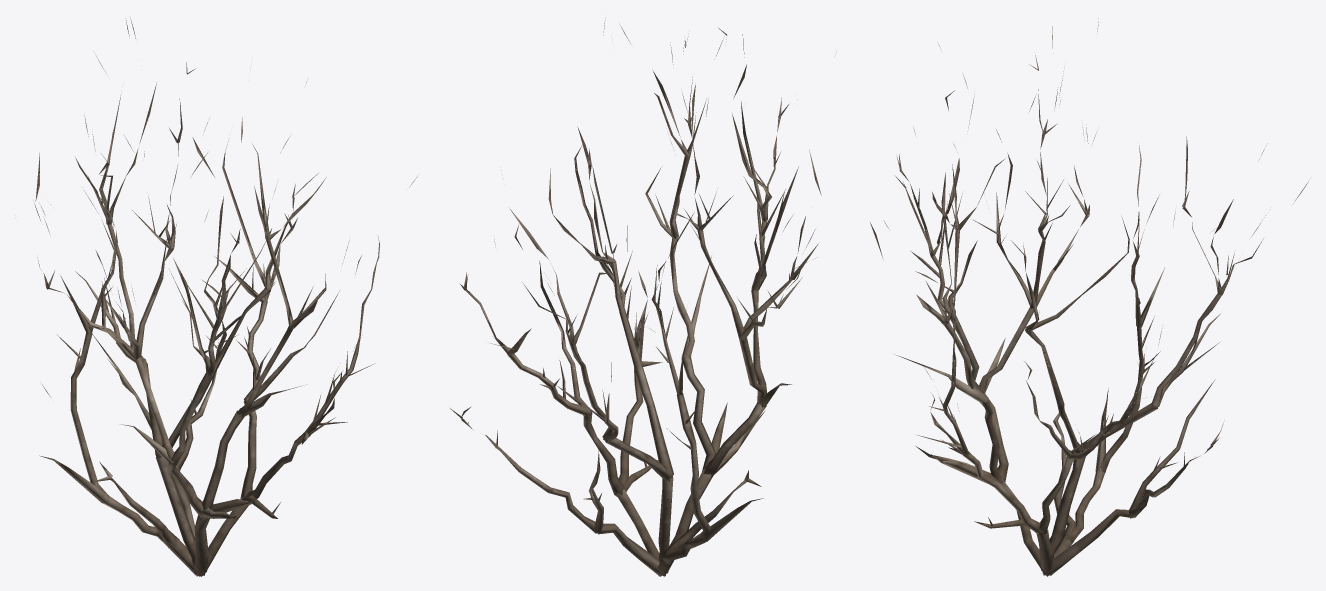
Rendered from searsia_b.glb.
The picture shows the model from 3 angles, left to right: view 1: azimuth 30°, elevation 25°; view 2: azimuth 150°, elevation 25°; view 3: azimuth 270°, elevation 25°; orthographic projection. The views are drawn at different scales.
Visible parts, largest first — view 1: lod0; view 2: lod0; view 3: lod0.
Boxes of the visible parts, x1,y1,x2,y2 form: lod0: (34,17,417,576); lod0: (450,17,821,576); lod0: (869,18,1308,576).
Size of what is drawn, in the model's own units: 1.12 by 1.8 by 1.34.
1 material, 1 textured.
